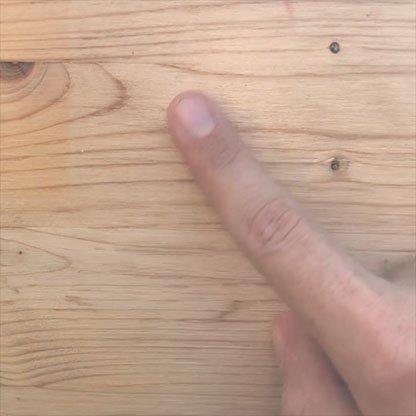fingertip: (156, 75, 230, 154)
